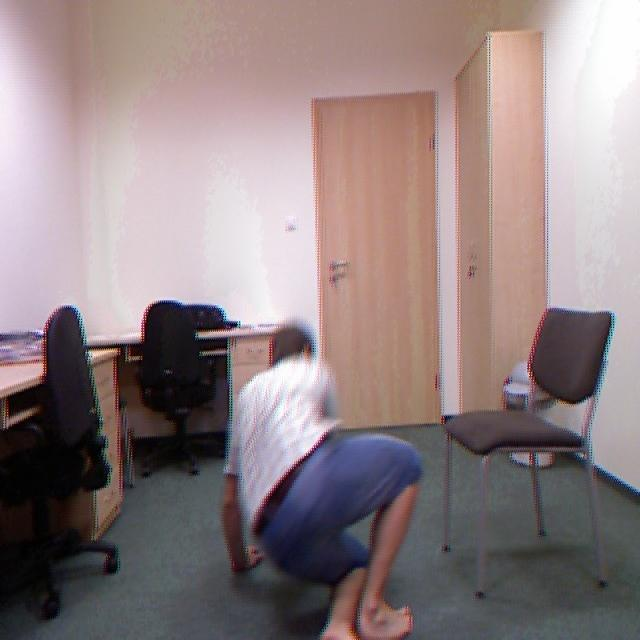fall detected: (209, 302, 430, 640)
